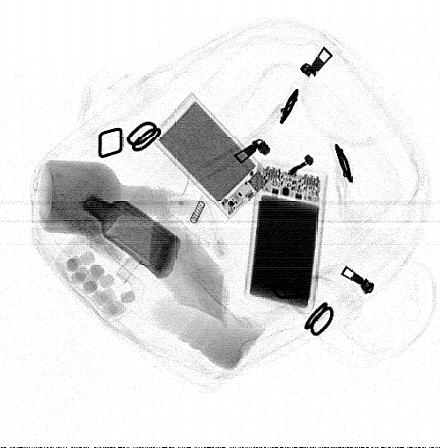Powerbank: (150, 93, 273, 219), (243, 159, 328, 316)
